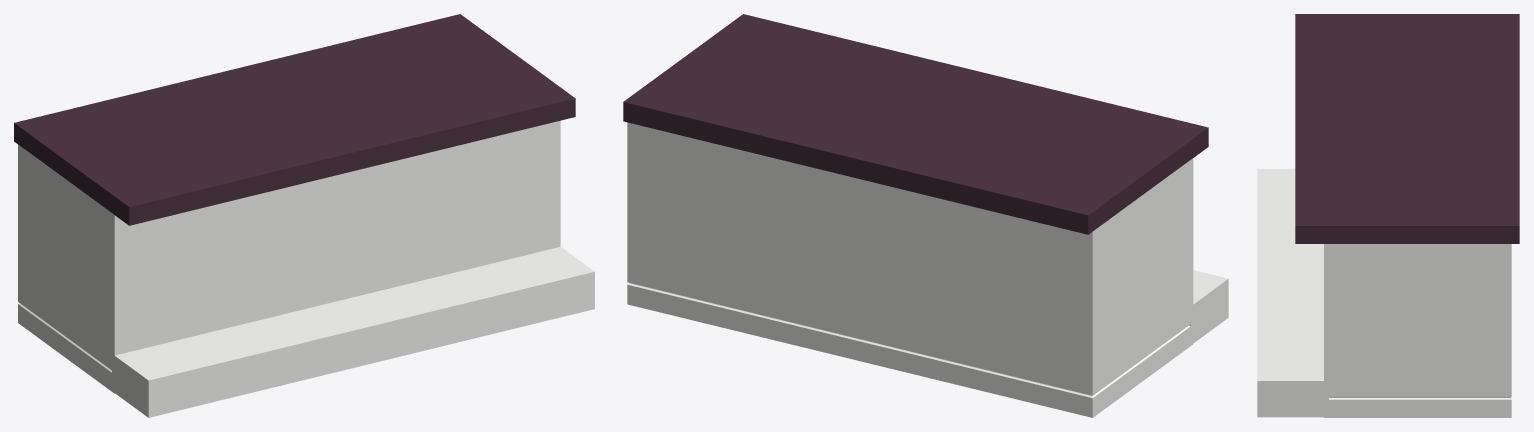
File: SM_counter_01.fbx
3 views of the same model, side by side, from view 1: azimuth 30°, elevation 25°; view 2: azimuth 150°, elevation 25°; view 3: azimuth 270°, elevation 25° (orthographic). The views are drawn at different scales.
Visible parts, largest first — view 1: counter_01; view 2: counter_01; view 3: counter_01.
Part boxes in pixels (<box>): counter_01: <box>14,14,594,417</box>; counter_01: <box>623,14,1228,417</box>; counter_01: <box>1257,14,1519,417</box>.
Bounding box in the file's own units: 142 × 59.79 × 73.98.
